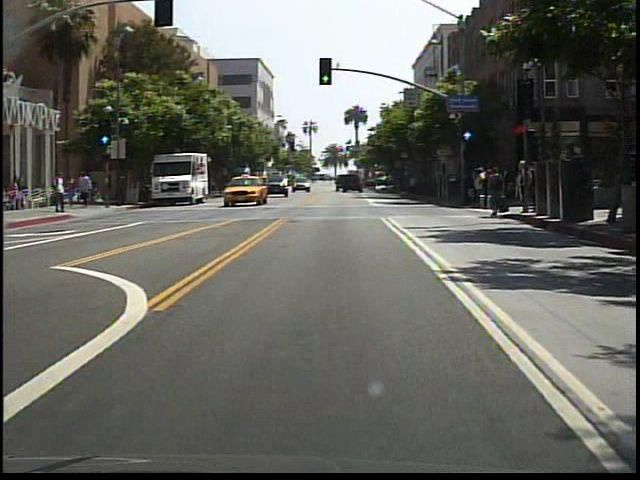person: (485, 165, 508, 223), (54, 168, 70, 216), (7, 174, 25, 213), (80, 168, 97, 208), (68, 174, 80, 208)
